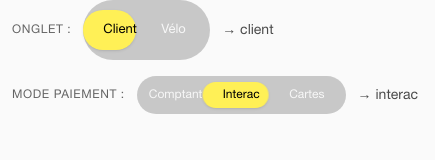
Test case: UiKitPillsToggle › clic 'Vélo' → état change à 'velo'
This screenshot has width=435, height=160.
Click the radio button "Vélo" at (173, 30), box left=147, top=10, right=200, bottom=50
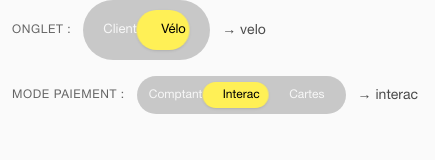
Result: the text "→ velo" is shown at left=222, top=20, right=266, bottom=40
